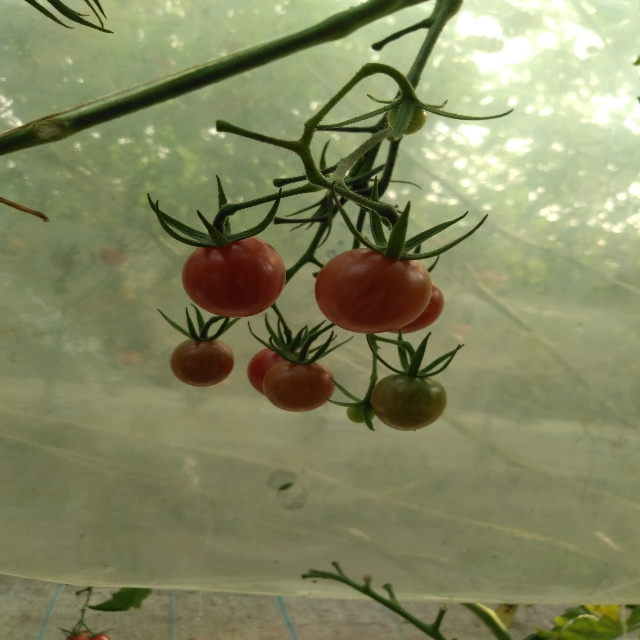l_fully_ripened: (315, 247, 433, 333), (182, 235, 286, 318), (248, 346, 310, 396), (388, 282, 444, 334)
l_green: (388, 100, 428, 135), (346, 403, 376, 423)
l_half_ripened: (371, 372, 447, 430), (263, 358, 335, 412), (170, 337, 234, 387)
